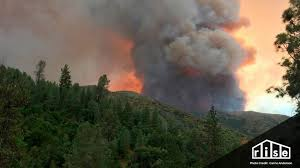smoke: (134, 1, 241, 92)
